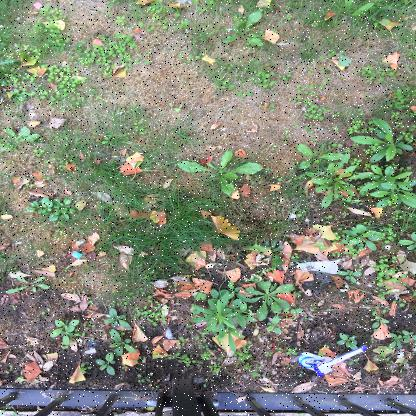Other carton: (72, 251, 83, 259)
Other plastic: (299, 345, 367, 377)
Unlabeled litter: (296, 259, 340, 274)
